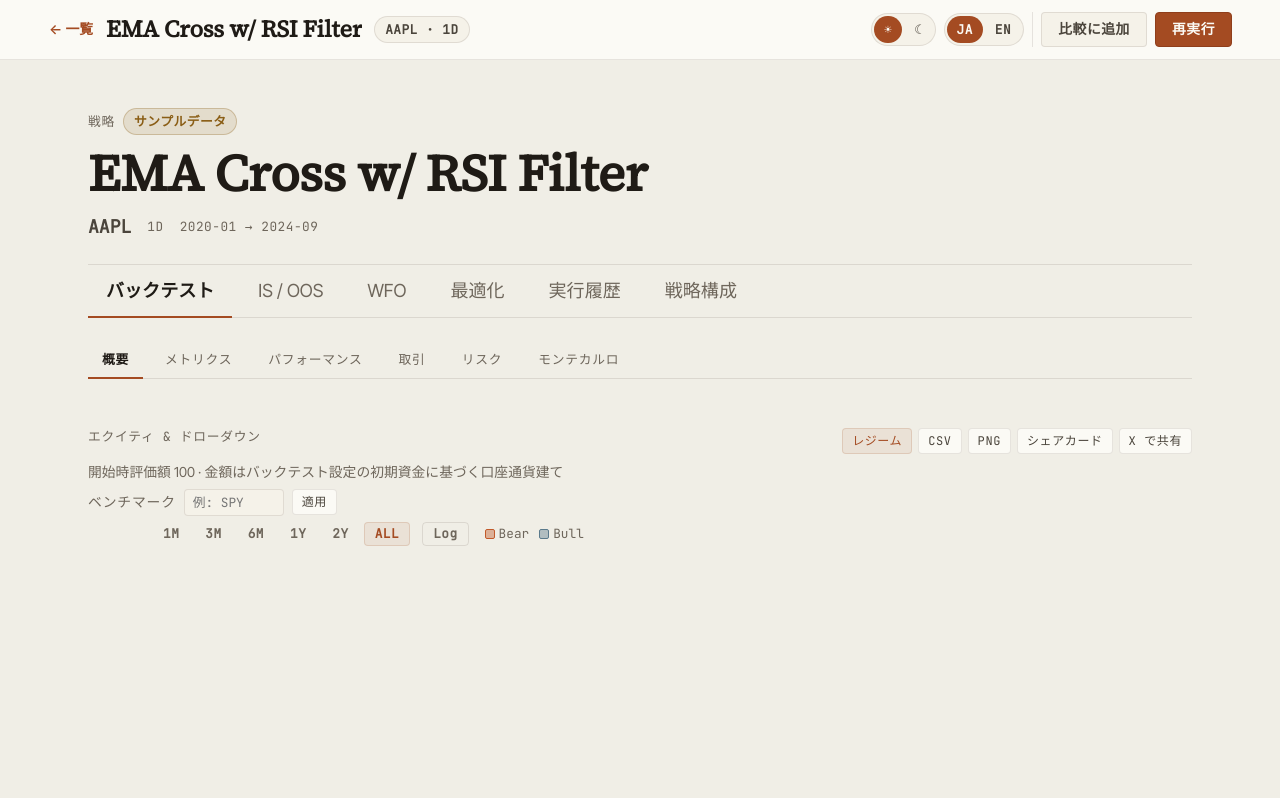
Test case: DetailPage の IS/OOS・WFO 概念説明 (issue #361) › WFO タブに概念説明のサブテキストが表示される
This screenshot has width=1280, height=798.
Click the tab "WFO".
click(387, 291)  # box [349, 265, 424, 318]
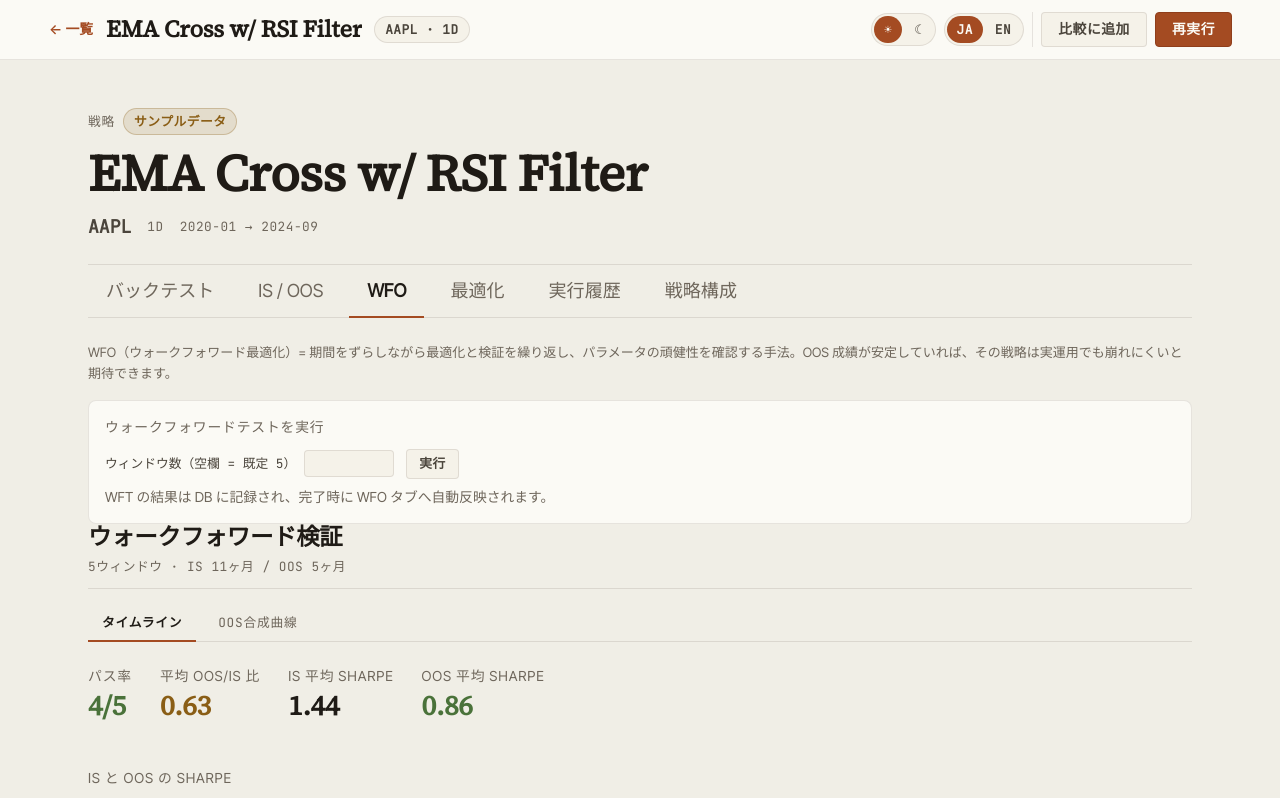
Now the text "パラメータの頑健性" is shown, box [88, 344, 1182, 381]
